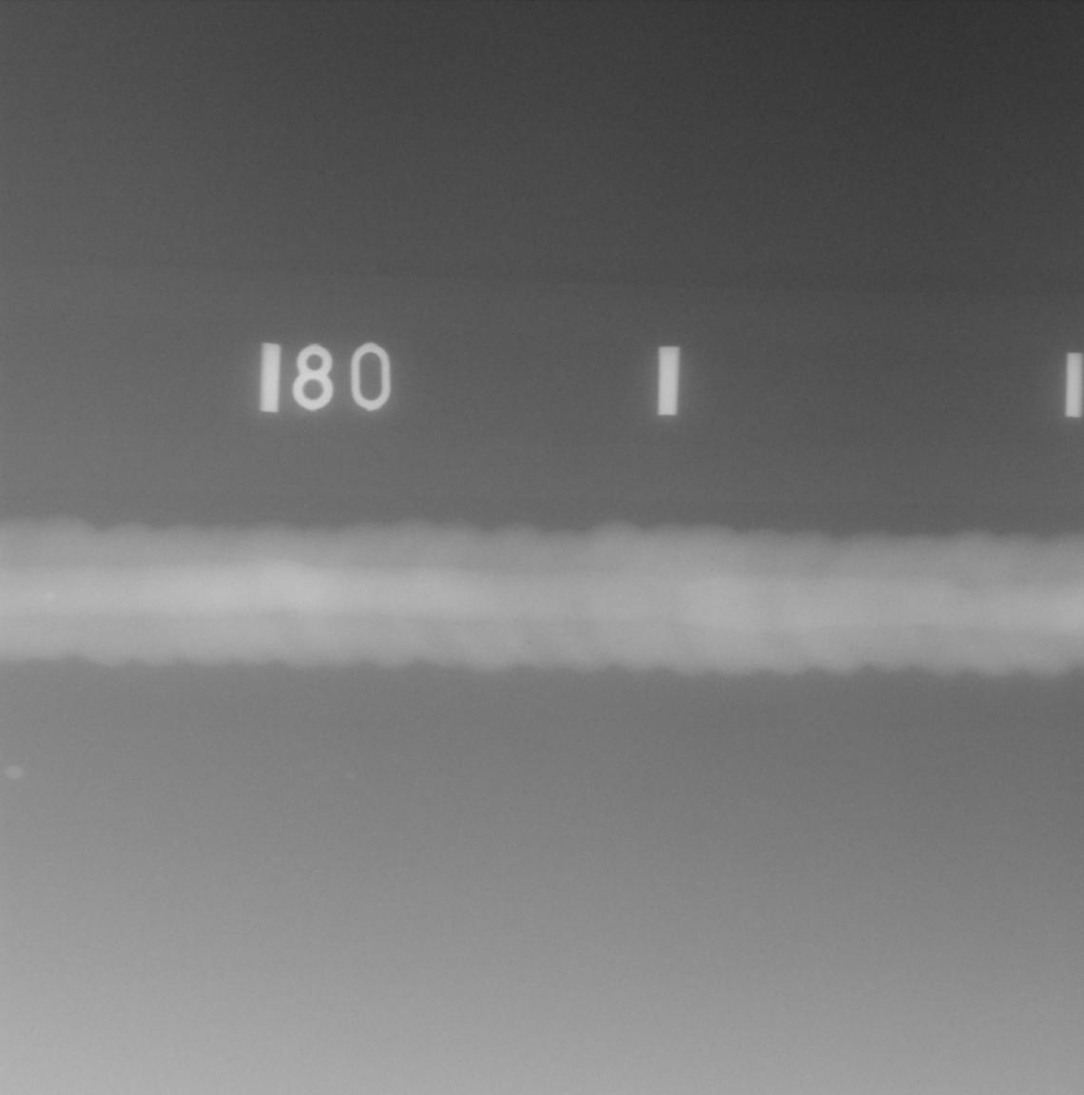Pore/Porosity: (528, 641, 532, 645)
